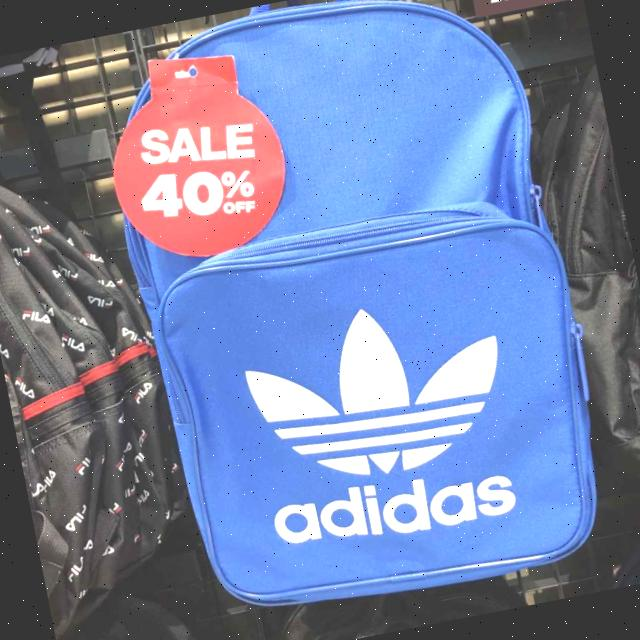Handbag: (94, 0, 623, 634)
